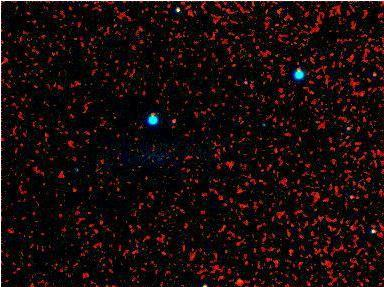star: (225, 263, 255, 287)
